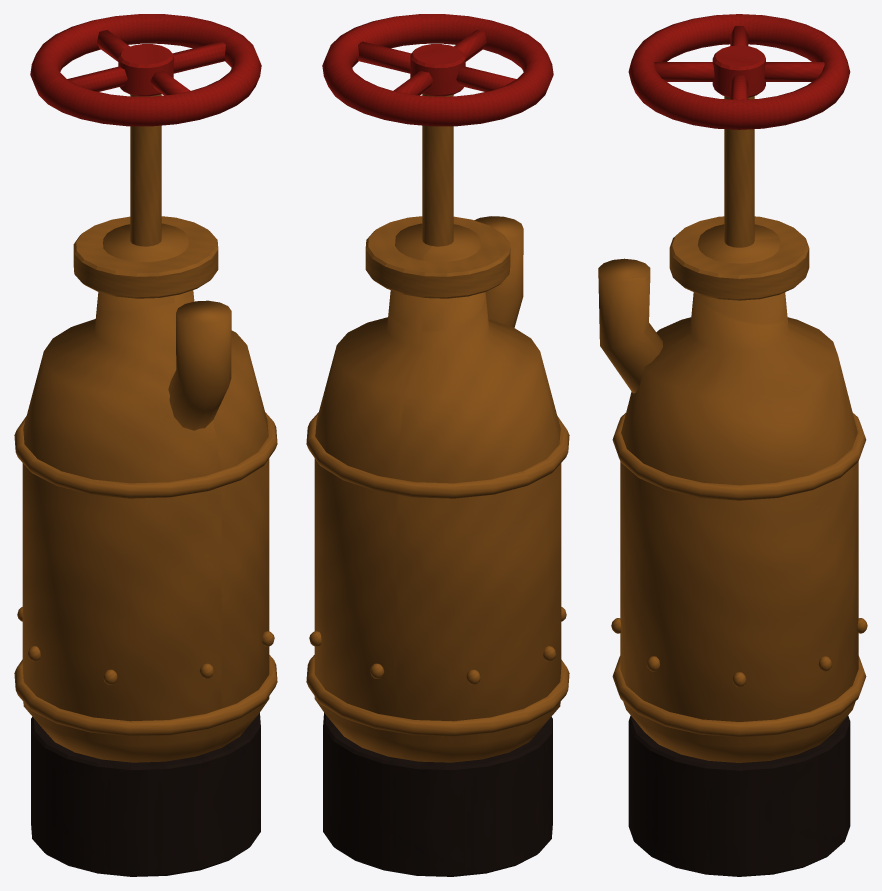
Rendered from module-steam.glb.
The picture shows the model from 3 angles, left to right: view 1: azimuth 30°, elevation 25°; view 2: azimuth 150°, elevation 25°; view 3: azimuth 270°, elevation 25°; orthographic projection.
Visible parts, largest first — view 1: valve-crafted-surfaces, valve-lid-crafted-surfaces; view 2: valve-crafted-surfaces, valve-lid-crafted-surfaces; view 3: valve-crafted-surfaces, valve-lid-crafted-surfaces.
Boxes of the visible parts, left/top/right/bottom form: valve-crafted-surfaces: left=14, top=223, right=277, bottom=876; valve-lid-crafted-surfaces: left=30, top=14, right=261, bottom=298; valve-crafted-surfaces: left=306, top=216, right=569, bottom=876; valve-lid-crafted-surfaces: left=322, top=14, right=553, bottom=298; valve-crafted-surfaces: left=598, top=224, right=867, bottom=876; valve-lid-crafted-surfaces: left=628, top=14, right=850, bottom=300.
Bounding box in the file's own units: 0.6 × 1.9 × 0.6.
3 materials, 3 textured.
